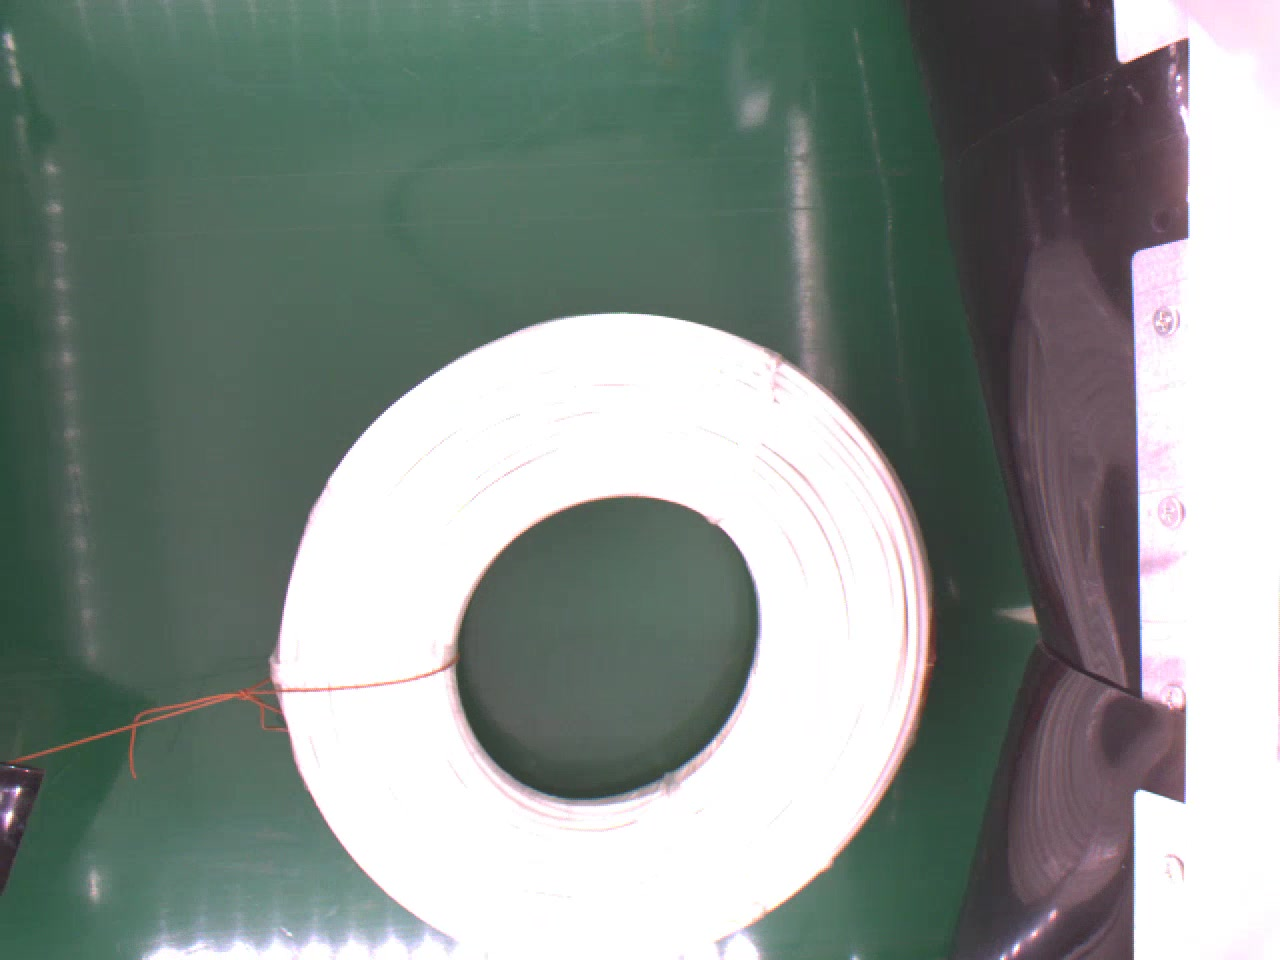white: (266, 311, 942, 955)
